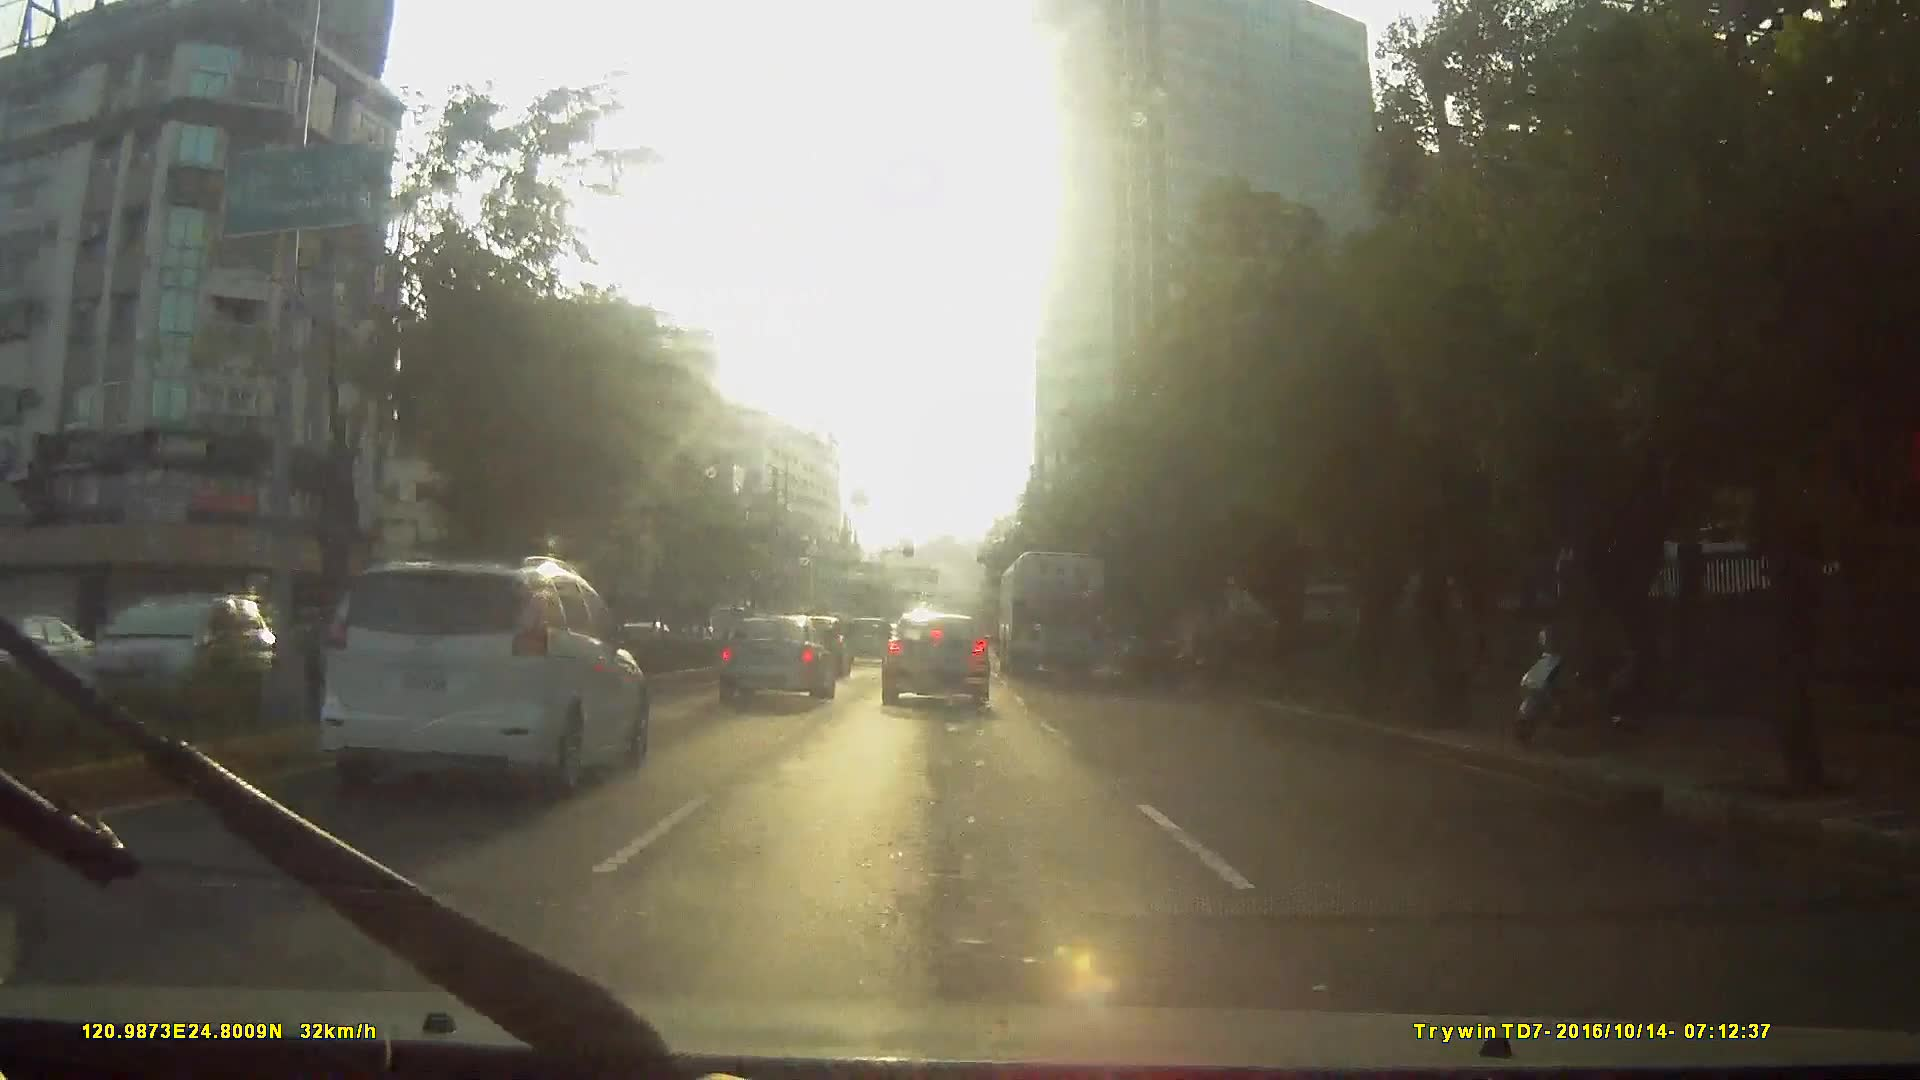vehicle: (251, 556, 684, 868), (310, 555, 649, 804), (82, 595, 291, 733), (1004, 550, 1112, 683), (880, 611, 992, 713), (715, 612, 837, 705), (844, 618, 893, 667)
